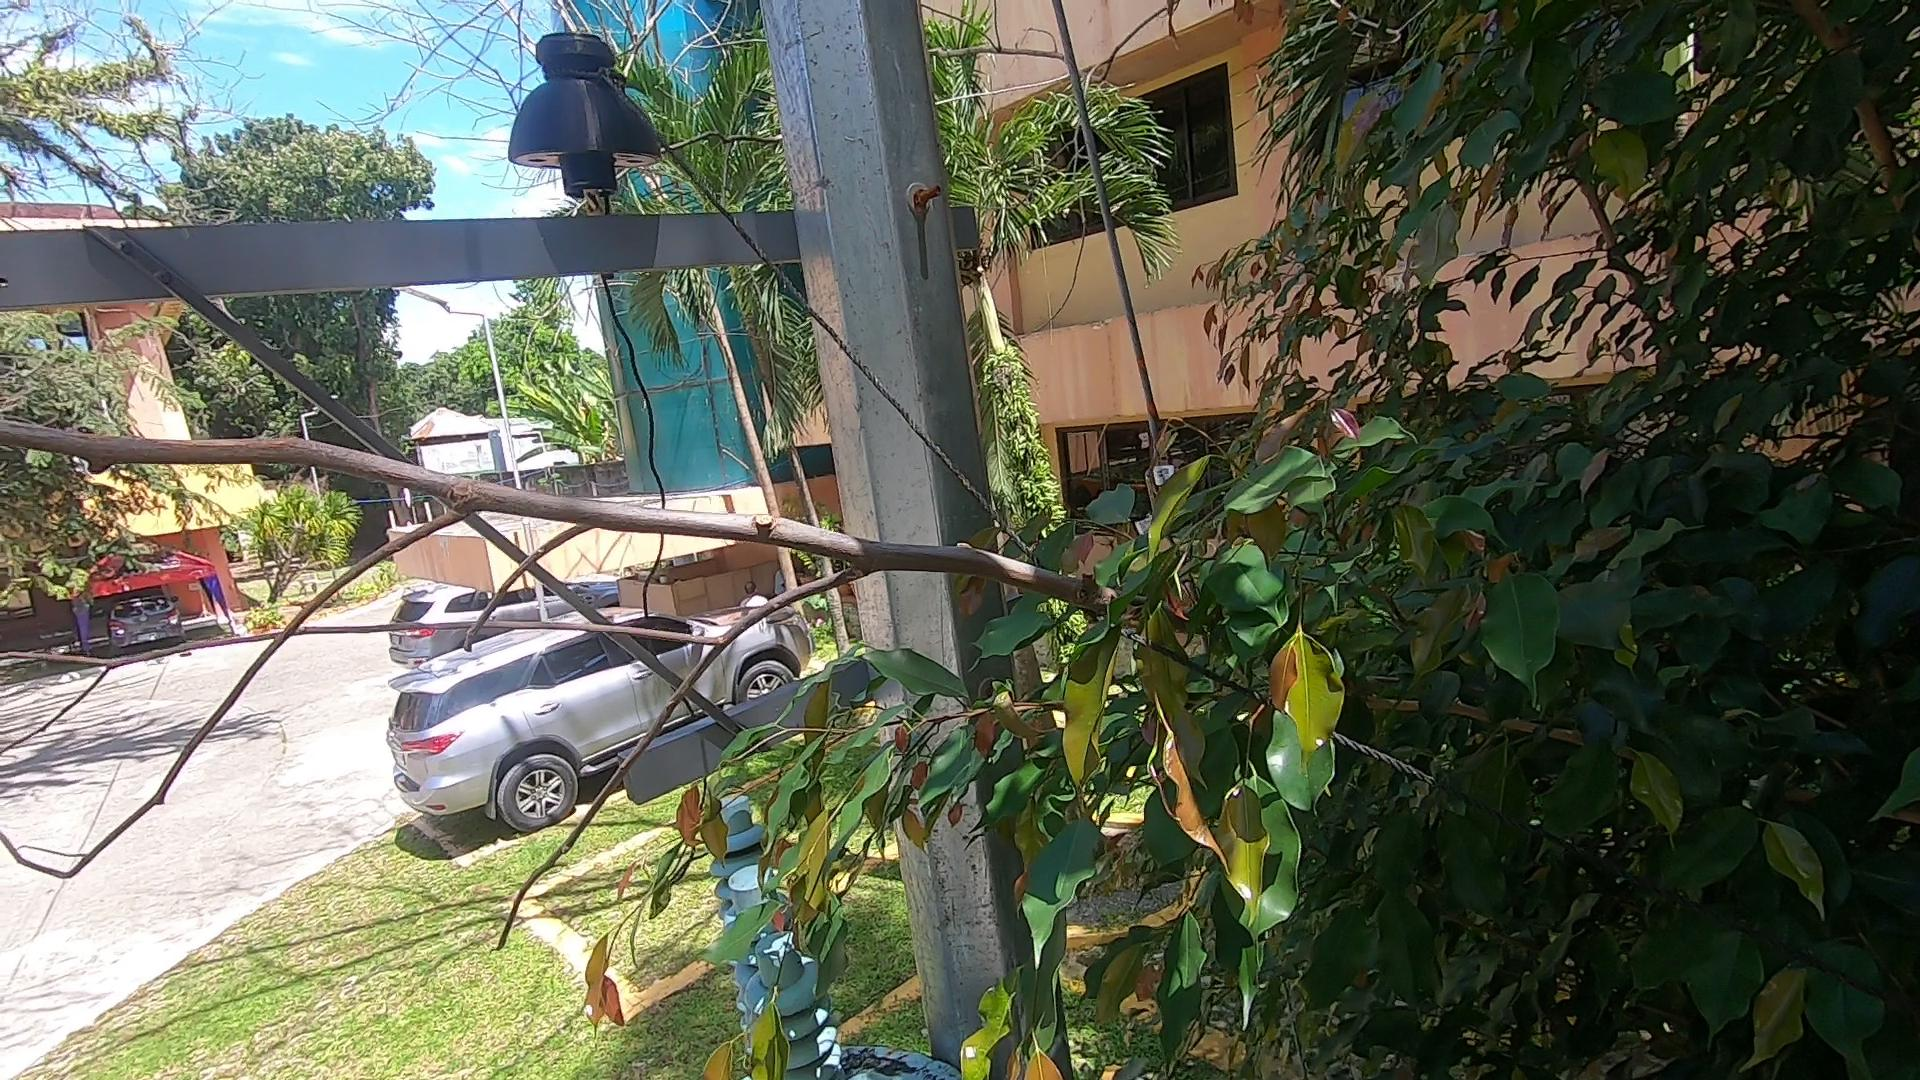tree branch: (1, 409, 1431, 965)
